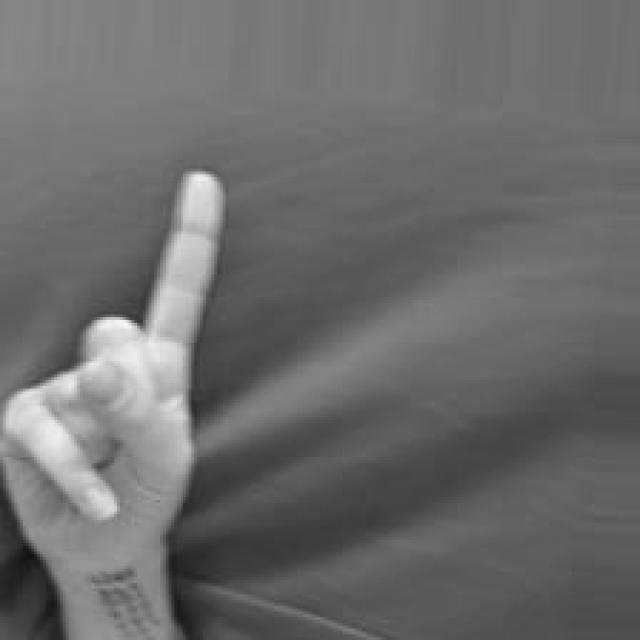I: (3, 165, 248, 640)
